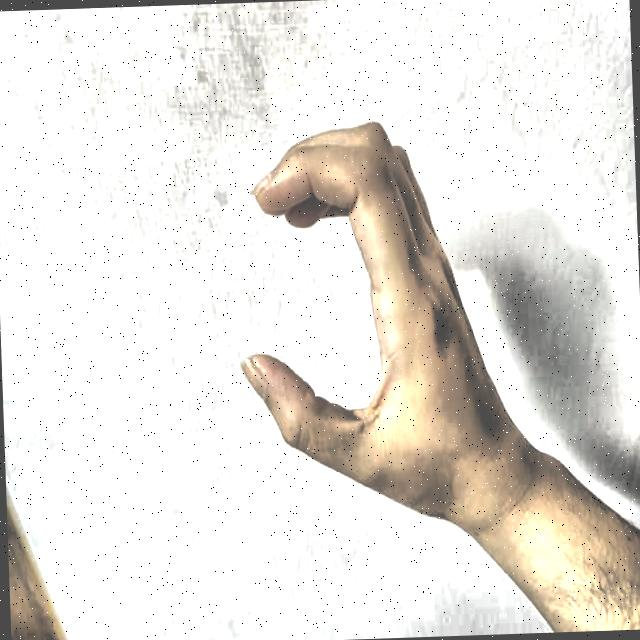A: (196, 100, 482, 564)
